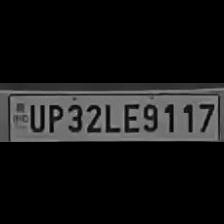1: (177, 99, 195, 133), (160, 100, 178, 132)
2: (84, 100, 103, 132)
3: (64, 99, 82, 133)
7: (193, 100, 215, 132)
9: (139, 98, 159, 132)
E: (119, 99, 138, 133)
L: (103, 99, 120, 133)
P: (44, 100, 64, 132)
U: (26, 100, 44, 132)
